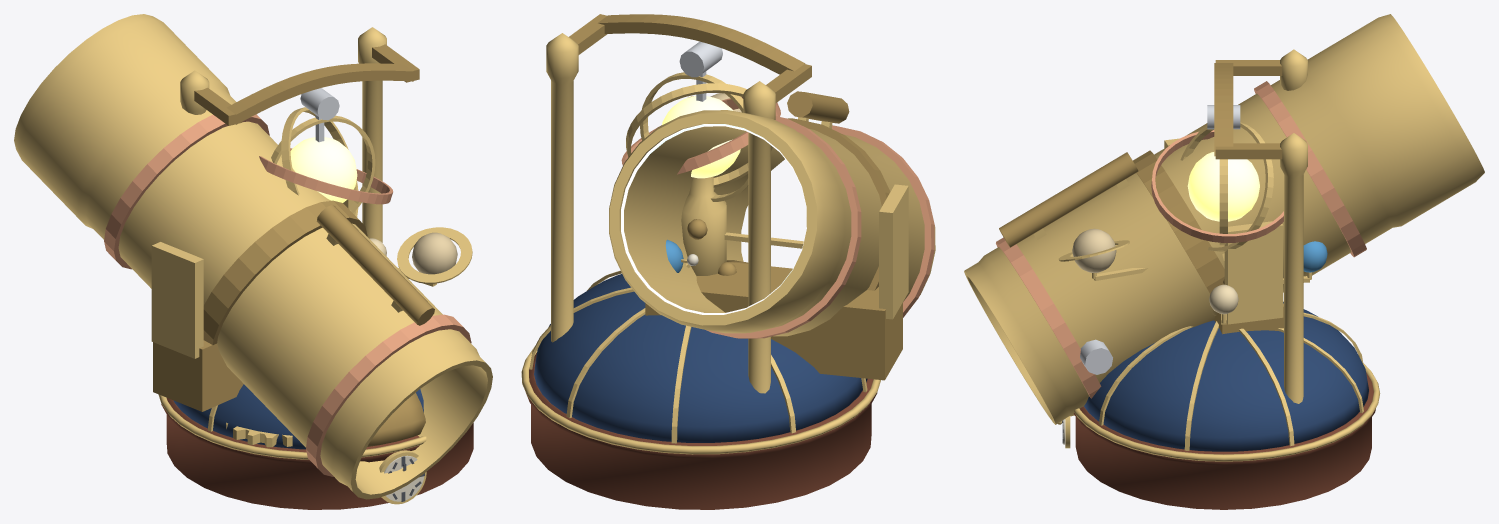
Rendered from observatory-toys.glb.
3 views of the same model, side by side, from view 1: azimuth 30°, elevation 25°; view 2: azimuth 150°, elevation 25°; view 3: azimuth 270°, elevation 25° (orthographic). The views are drawn at different scales.
Parts seen in each view (by area): view 1: telescope_tube, dome_drum, telescope_cheek, telescope_band.001, telescope_saddle, telescope_band, telescope_finder, pendulum_beam, telescope_band.002, pendulum_post.001, dome_shell, orrery_sun (+13 smaller); view 2: telescope_tube, dome_shell, dome_drum, telescope_saddle, pendulum_post.001, pendulum_post, pendulum_beam, dome_cornice, telescope_cheek, orrery_spindle, telescope_band.002, dome (+12 smaller); view 3: telescope_tube, dome_shell, dome_drum, pendulum_post.001, telescope_cheek.001, telescope_finder, orrery_sun, telescope_band.001, dome, dome_cornice, telescope_band.002, telescope_band (+12 smaller).
Boxes of the visible parts, x1,y1,x2,y2 form: telescope_tube: [14, 14, 492, 499]; dome_drum: [161, 398, 473, 509]; telescope_cheek: [151, 242, 203, 358]; telescope_band.001: [203, 200, 367, 344]; telescope_saddle: [153, 340, 243, 411]; telescope_band: [306, 314, 471, 476]; telescope_finder: [316, 205, 434, 325]; pendulum_beam: [226, 63, 413, 124]; telescope_band.002: [104, 114, 269, 269]; pendulum_post.001: [358, 27, 386, 242]; dome_shell: [173, 384, 423, 449]; orrery_sun: [290, 137, 357, 202]; telescope_tube: [609, 110, 935, 336]; dome_shell: [534, 274, 867, 442]; dome_drum: [526, 352, 877, 509]; telescope_saddle: [645, 262, 902, 380]; pendulum_post.001: [546, 33, 578, 342]; pendulum_post: [743, 81, 775, 393]; pendulum_beam: [597, 14, 805, 74]; dome_cornice: [521, 346, 880, 454]; telescope_cheek: [879, 184, 908, 319]; orrery_spindle: [681, 176, 726, 275]; telescope_band.002: [706, 116, 861, 338]; dome: [529, 270, 867, 443]; telescope_tube: [964, 14, 1484, 424]; dome_shell: [1084, 302, 1368, 451]; dome_drum: [1073, 372, 1375, 509]; pendulum_post.001: [1280, 133, 1307, 403]; telescope_cheek.001: [1224, 221, 1283, 324]; telescope_finder: [999, 152, 1138, 247]; orrery_sun: [1187, 152, 1259, 221]; telescope_band.001: [1133, 150, 1224, 293]; dome: [1099, 301, 1363, 450]; dome_cornice: [1073, 363, 1380, 461]; telescope_band.002: [1254, 81, 1366, 257]; telescope_band: [996, 237, 1101, 398].
Bounding box in the file's own units: 0.0925 × 0.0996 × 0.1265.
